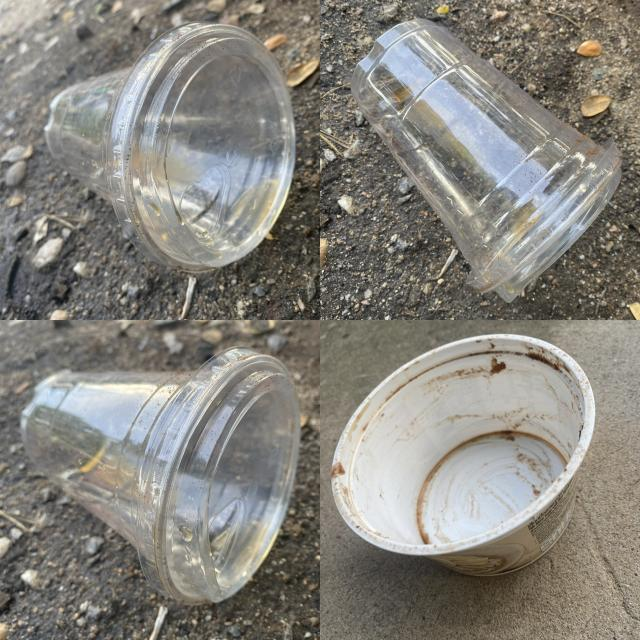Single-Use-Plastic: (351, 19, 620, 302), (21, 346, 300, 604), (331, 335, 594, 576), (45, 22, 295, 271)
